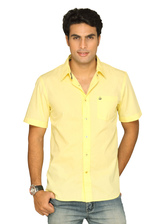clothoes: (23, 53, 141, 201)
watch: (19, 180, 49, 195)
